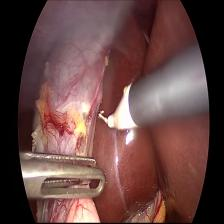Grasper: (17, 145, 108, 205)
Hook: (94, 83, 139, 136)
